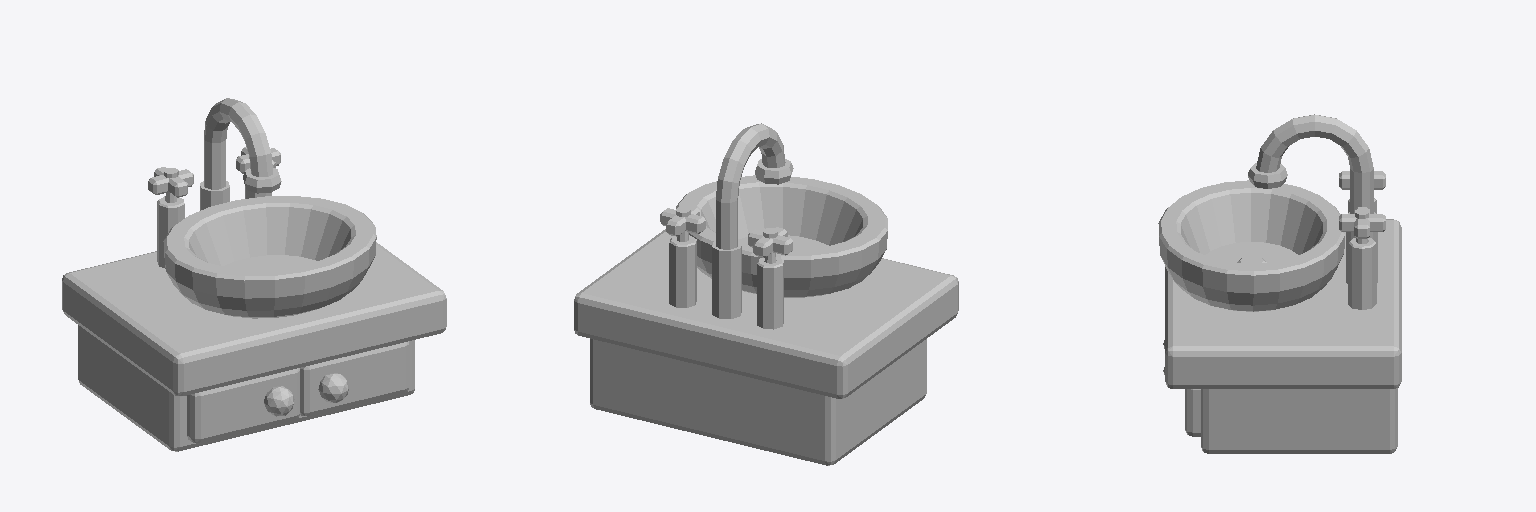
The model's file is cabinet_bathroom.obj.
3 renders of one model, left to right at view 1: azimuth 30°, elevation 25°; view 2: azimuth 150°, elevation 25°; view 3: azimuth 270°, elevation 25°, orthographic.
Visible parts, largest first — view 1: cabinet_bathroom; view 2: cabinet_bathroom; view 3: cabinet_bathroom.
Part boxes in pixels (x1,y1,x2,y2): cabinet_bathroom: (62,98,446,451); cabinet_bathroom: (574,123,958,465); cabinet_bathroom: (1158,114,1401,453).
Bounding box in the file's own units: 2 × 1.98 × 1.54.